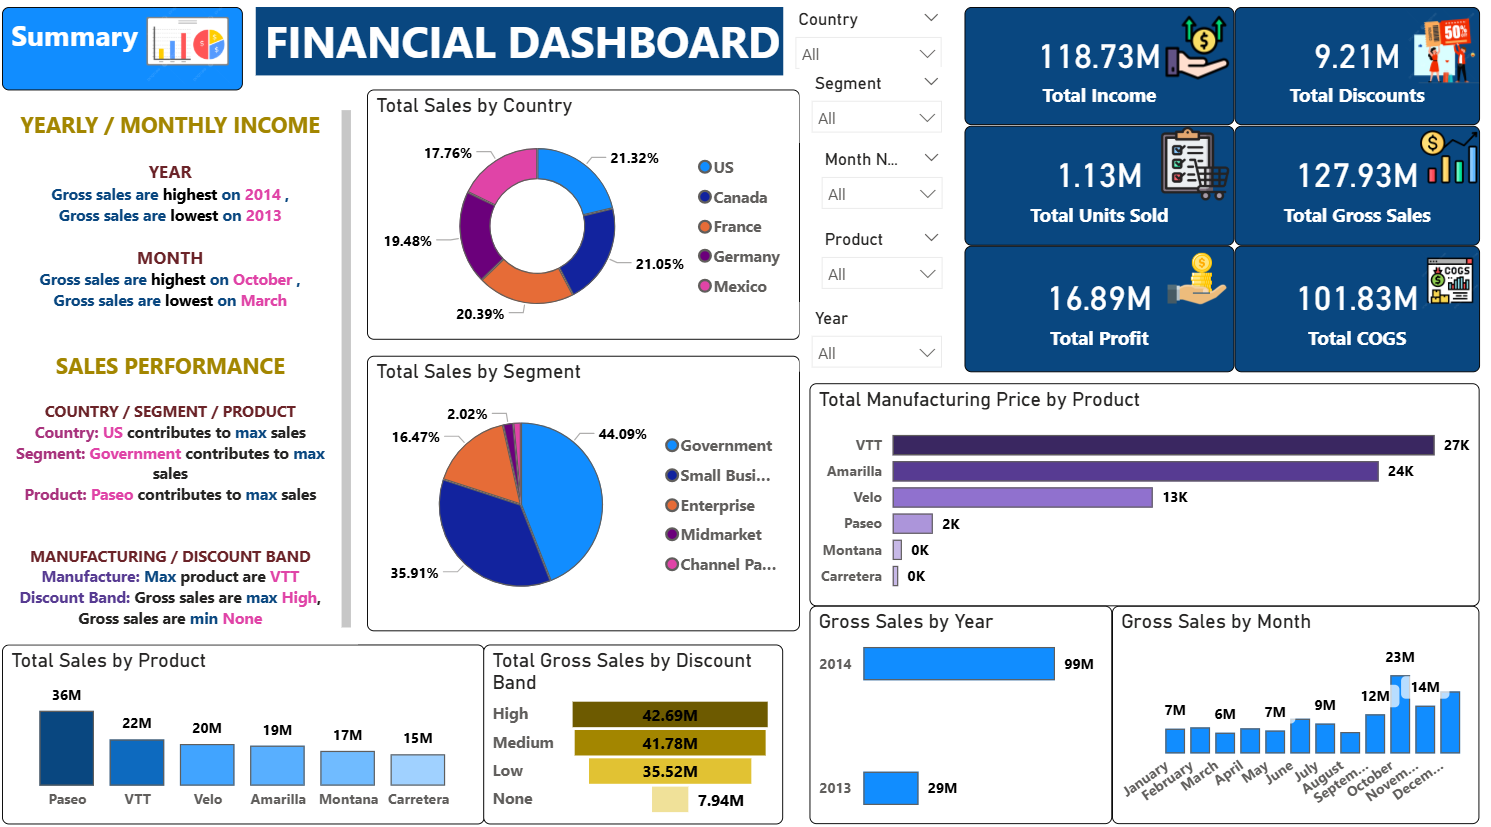

The page's visual inventory and layout, read from the dashboard file:
{"tool":"powerbi","page":{"name":"Page 1","canvas":[1280,720],"ordinal":0},"visuals":[{"type":"textbox","box":[225.6,12.8,464,58.1],"z":0},{"type":"card","fields":{"Values":["Sum(financials.Units Sold)"]},"box":[830.2,114,230.2,102.3],"z":1000},{"type":"card","fields":{"Values":["Sum(financials.Profit)"]},"box":[830.2,216.3,230.2,108.1],"z":2000},{"type":"card","fields":{"Values":["Sum(financials.Discounts)"]},"box":[1060.5,12.8,209.3,101.2],"z":3000},{"type":"card","fields":{"Values":["Sum(financials.Gross Sales)"]},"box":[1060.5,114,209.3,102.3],"z":4000},{"type":"card","fields":{"Values":["Sum(financials. Sales)"]},"box":[830.2,12.8,230.2,101.2],"z":5000},{"type":"card","fields":{"Values":["Sum(financials.COGS)"]},"box":[1060.5,216.3,209.3,108.1],"z":6000},{"type":"donutChart","fields":{"Category":["financials.Country"],"Y":["financials.Total Sales"]},"box":[319.8,83.7,369.8,214],"z":7000},{"type":"clusteredColumnChart","fields":{"Category":["financials.Product"],"Y":["financials.Total Sales"]},"box":[8.1,557,411.6,153.5],"z":8000},{"type":"lineStackedColumnComboChart","fields":{"Category":["financials.Date.Variation.Date Hierarchy.Month"],"Y":["Sum(financials.Gross Sales)"]},"box":[955.8,524.4,314,186],"z":9000},{"type":"pieChart","fields":{"Y":["financials.Total Sales"],"Category":["financials.Segment"]},"box":[319.8,310.5,369.8,234.9],"z":10000},{"type":"clusteredBarChart","fields":{"Y":["Sum(financials.Manufacturing Price)"],"Category":["financials.Product"]},"box":[697.7,333.7,572.1,190.7],"z":11000},{"type":"slicer","fields":{"Values":["financials.Country"]},"box":[675.6,9.3,145.3,64],"z":12000},{"type":"slicer","fields":{"Values":["financials.Segment"]},"box":[689.5,64,131.4,65.1],"z":13000},{"type":"slicer","fields":{"Values":["financials.Month Name"]},"box":[697.7,129.1,123.3,68.6],"z":14000},{"type":"slicer","fields":{"Values":["financials.Product"]},"box":[697.7,197.7,123.3,73.3],"z":15000},{"type":"funnel","fields":{"Category":["financials.Discount Band"],"Y":["Sum(financials.Gross Sales)"]},"box":[419.8,557,255.8,153.5],"z":16000},{"type":"textbox","box":[0,96.5,311.6,460.5],"z":17000},{"type":"barChart","fields":{"Category":["financials.Date.Variation.Date Hierarchy.Year"],"Y":["Sum(financials.Gross Sales)"]},"box":[697.7,524.4,258.1,186],"z":18000},{"type":"slicer","fields":{"Values":["financials.Date.Variation.Date Hierarchy.Year"]},"box":[689.5,265.1,131.4,59.3],"z":19000},{"type":"image","box":[993,114,67.4,65.1],"z":19001},{"type":"image","box":[997.7,19.8,62.8,54.7],"z":19002},{"type":"image","box":[1204.7,14,65.1,64],"z":19003},{"type":"image","box":[1217.4,116.3,52.3,48.8],"z":19004},{"type":"image","box":[997.7,216.3,61.6,54.7],"z":19005},{"type":"image","box":[1217.4,211.6,54.7,70.9],"z":19006},{"type":"textbox","box":[8.1,12.8,205.8,70.9],"z":19007},{"type":"image","box":[120.9,3.5,93,77.9],"z":19008}]}

Visuals, with their boxes in screenshot pixels (x1, y1, x2, y2), scaled from the page's 1280x720 canvas onto the 1491x827 screenshot:
textbox: <box>263,15,803,81</box>
card - Sum(financials.Units Sold): <box>967,131,1235,248</box>
card - Sum(financials.Profit): <box>967,248,1235,373</box>
card - Sum(financials.Discounts): <box>1235,15,1479,131</box>
card - Sum(financials.Gross Sales): <box>1235,131,1479,248</box>
card - Sum(financials. Sales): <box>967,15,1235,131</box>
card - Sum(financials.COGS): <box>1235,248,1479,373</box>
donutChart - financials.Country x financials.Total Sales: <box>373,96,803,342</box>
clusteredColumnChart - financials.Product x financials.Total Sales: <box>9,640,489,816</box>
lineStackedColumnComboChart - financials.Date.Variation.Date Hierarchy.Month x Sum(financials.Gross Sales): <box>1113,602,1479,816</box>
pieChart - financials.Total Sales x financials.Segment: <box>373,357,803,626</box>
clusteredBarChart - Sum(financials.Manufacturing Price) x financials.Product: <box>813,383,1479,602</box>
slicer - financials.Country: <box>787,11,956,84</box>
slicer - financials.Segment: <box>803,74,956,148</box>
slicer - financials.Month Name: <box>813,148,956,227</box>
slicer - financials.Product: <box>813,227,956,311</box>
funnel - financials.Discount Band x Sum(financials.Gross Sales): <box>489,640,787,816</box>
textbox: <box>0,111,363,640</box>
barChart - financials.Date.Variation.Date Hierarchy.Year x Sum(financials.Gross Sales): <box>813,602,1113,816</box>
slicer - financials.Date.Variation.Date Hierarchy.Year: <box>803,304,956,373</box>
image: <box>1157,131,1235,206</box>
image: <box>1162,23,1235,86</box>
image: <box>1403,16,1479,90</box>
image: <box>1418,134,1479,190</box>
image: <box>1162,248,1234,311</box>
image: <box>1418,243,1482,324</box>
textbox: <box>9,15,249,96</box>
image: <box>141,4,249,93</box>
